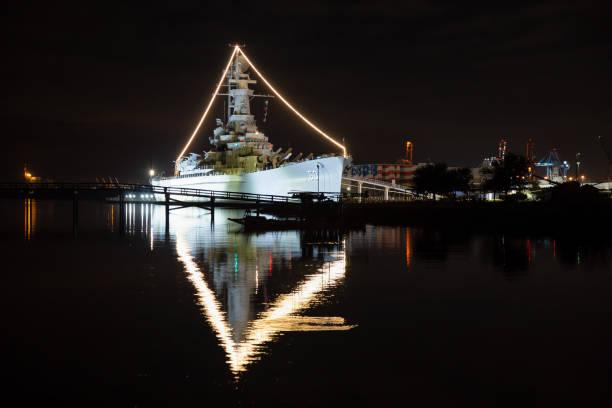MIL_Ship: (146, 41, 349, 205)
